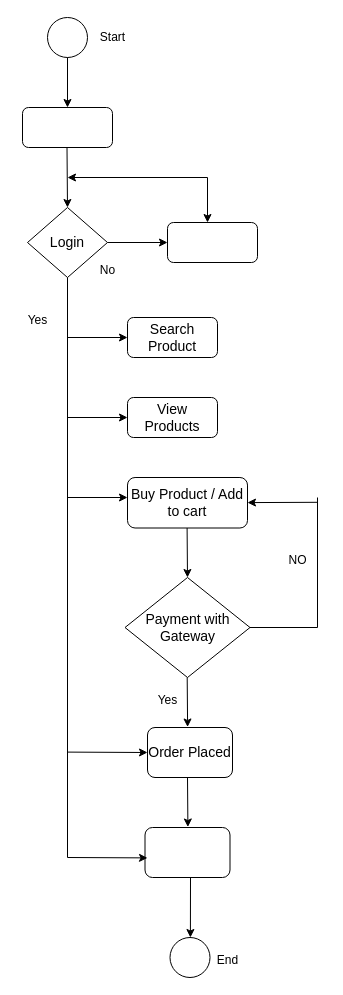
The diagram is 343 pixels wide and 995 high, and some of its shapes have lost their labels. Each missing label, with the centre of its shape:
"Register" goes at (x=212, y=242).
"Sing Out" goes at (x=187, y=852).
"User" goes at (x=67, y=127).
